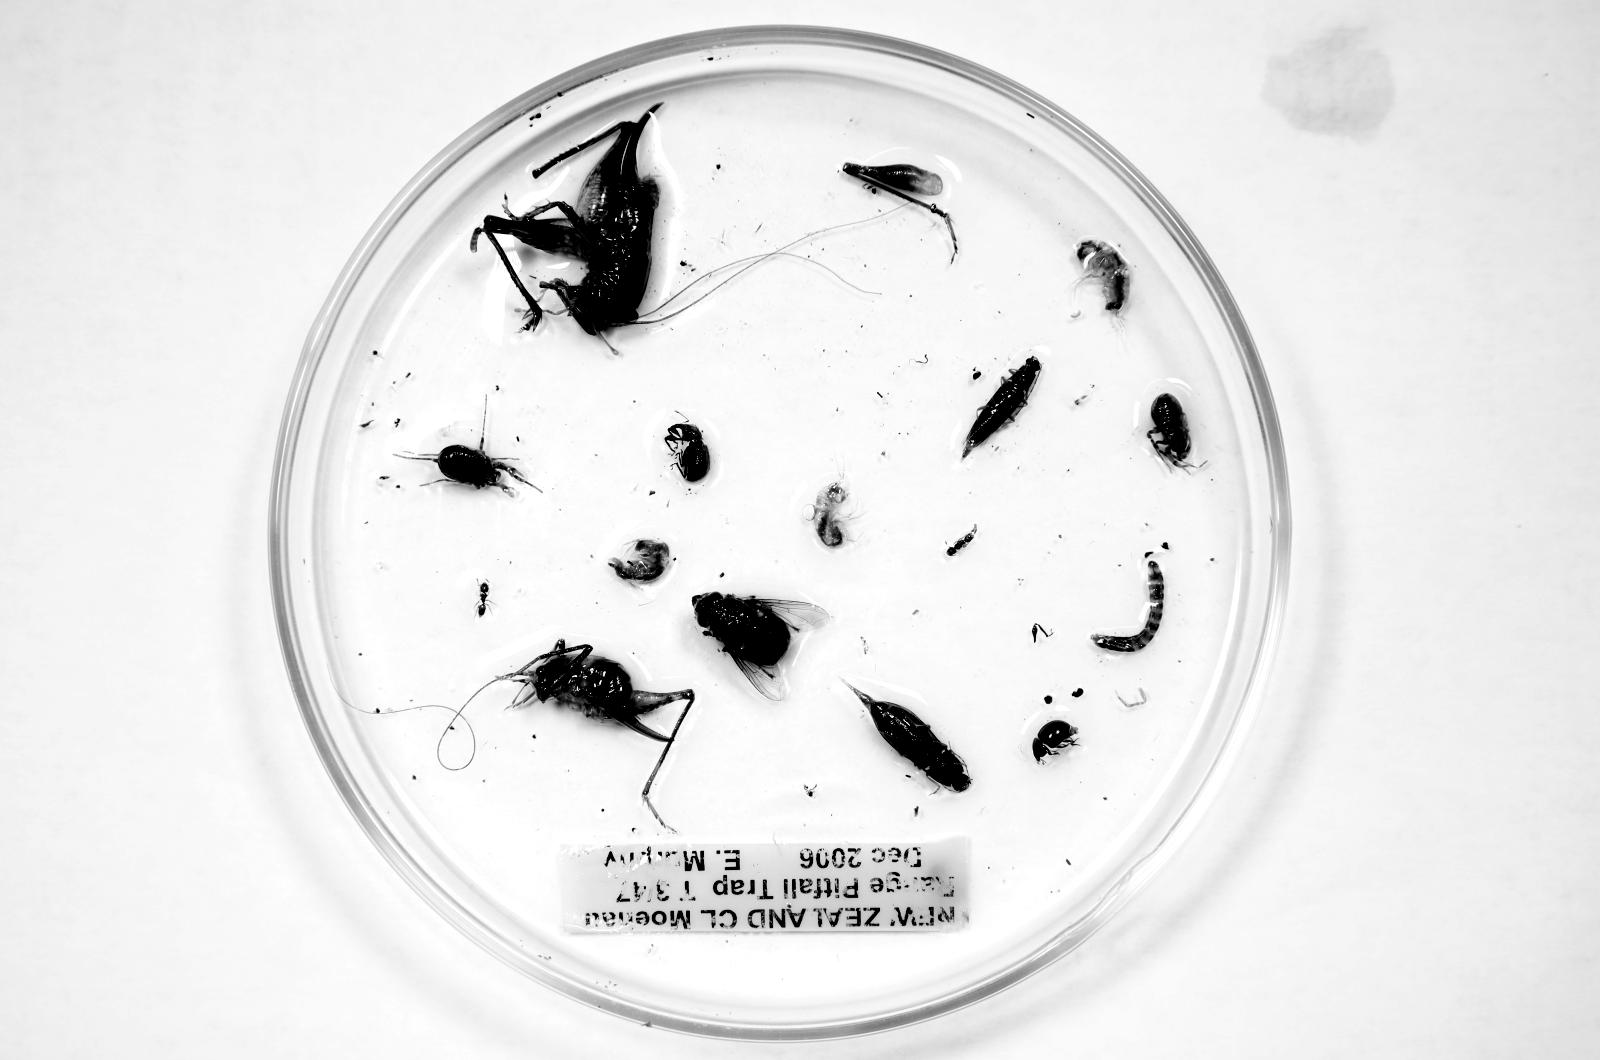amphipoda: (1074, 239, 1129, 315), (609, 538, 672, 583), (811, 481, 853, 548)
coleoptera: (851, 685, 971, 791), (963, 356, 1041, 458), (663, 421, 711, 483), (1032, 719, 1078, 764)
diptera: (692, 592, 829, 700)
formicidae: (946, 526, 978, 556), (475, 580, 490, 618)
opiliones: (394, 445, 542, 496), (1147, 394, 1191, 467)
orthoptera: (471, 103, 661, 337), (497, 640, 695, 833)
